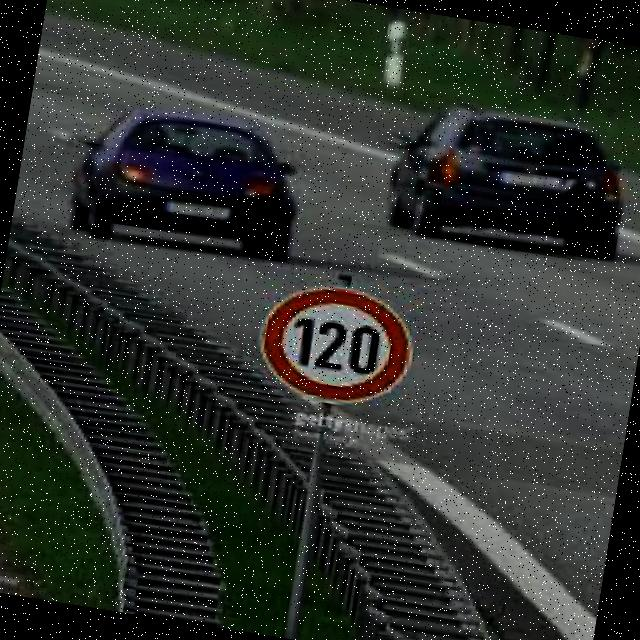Ograniczenie predkosci do 120: (247, 273, 426, 418)
